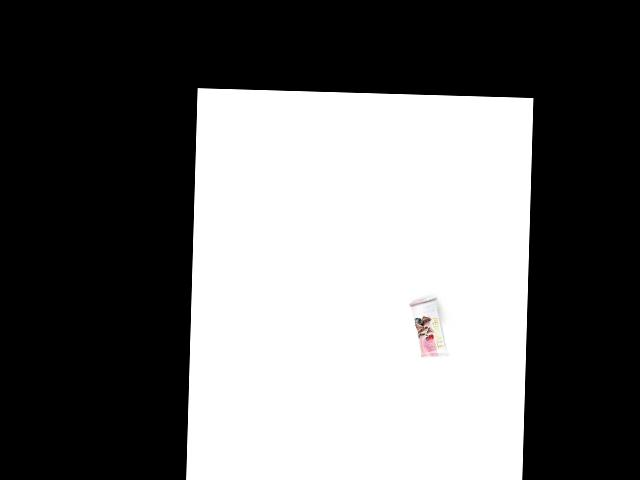chocolate: (406, 298, 450, 357)
